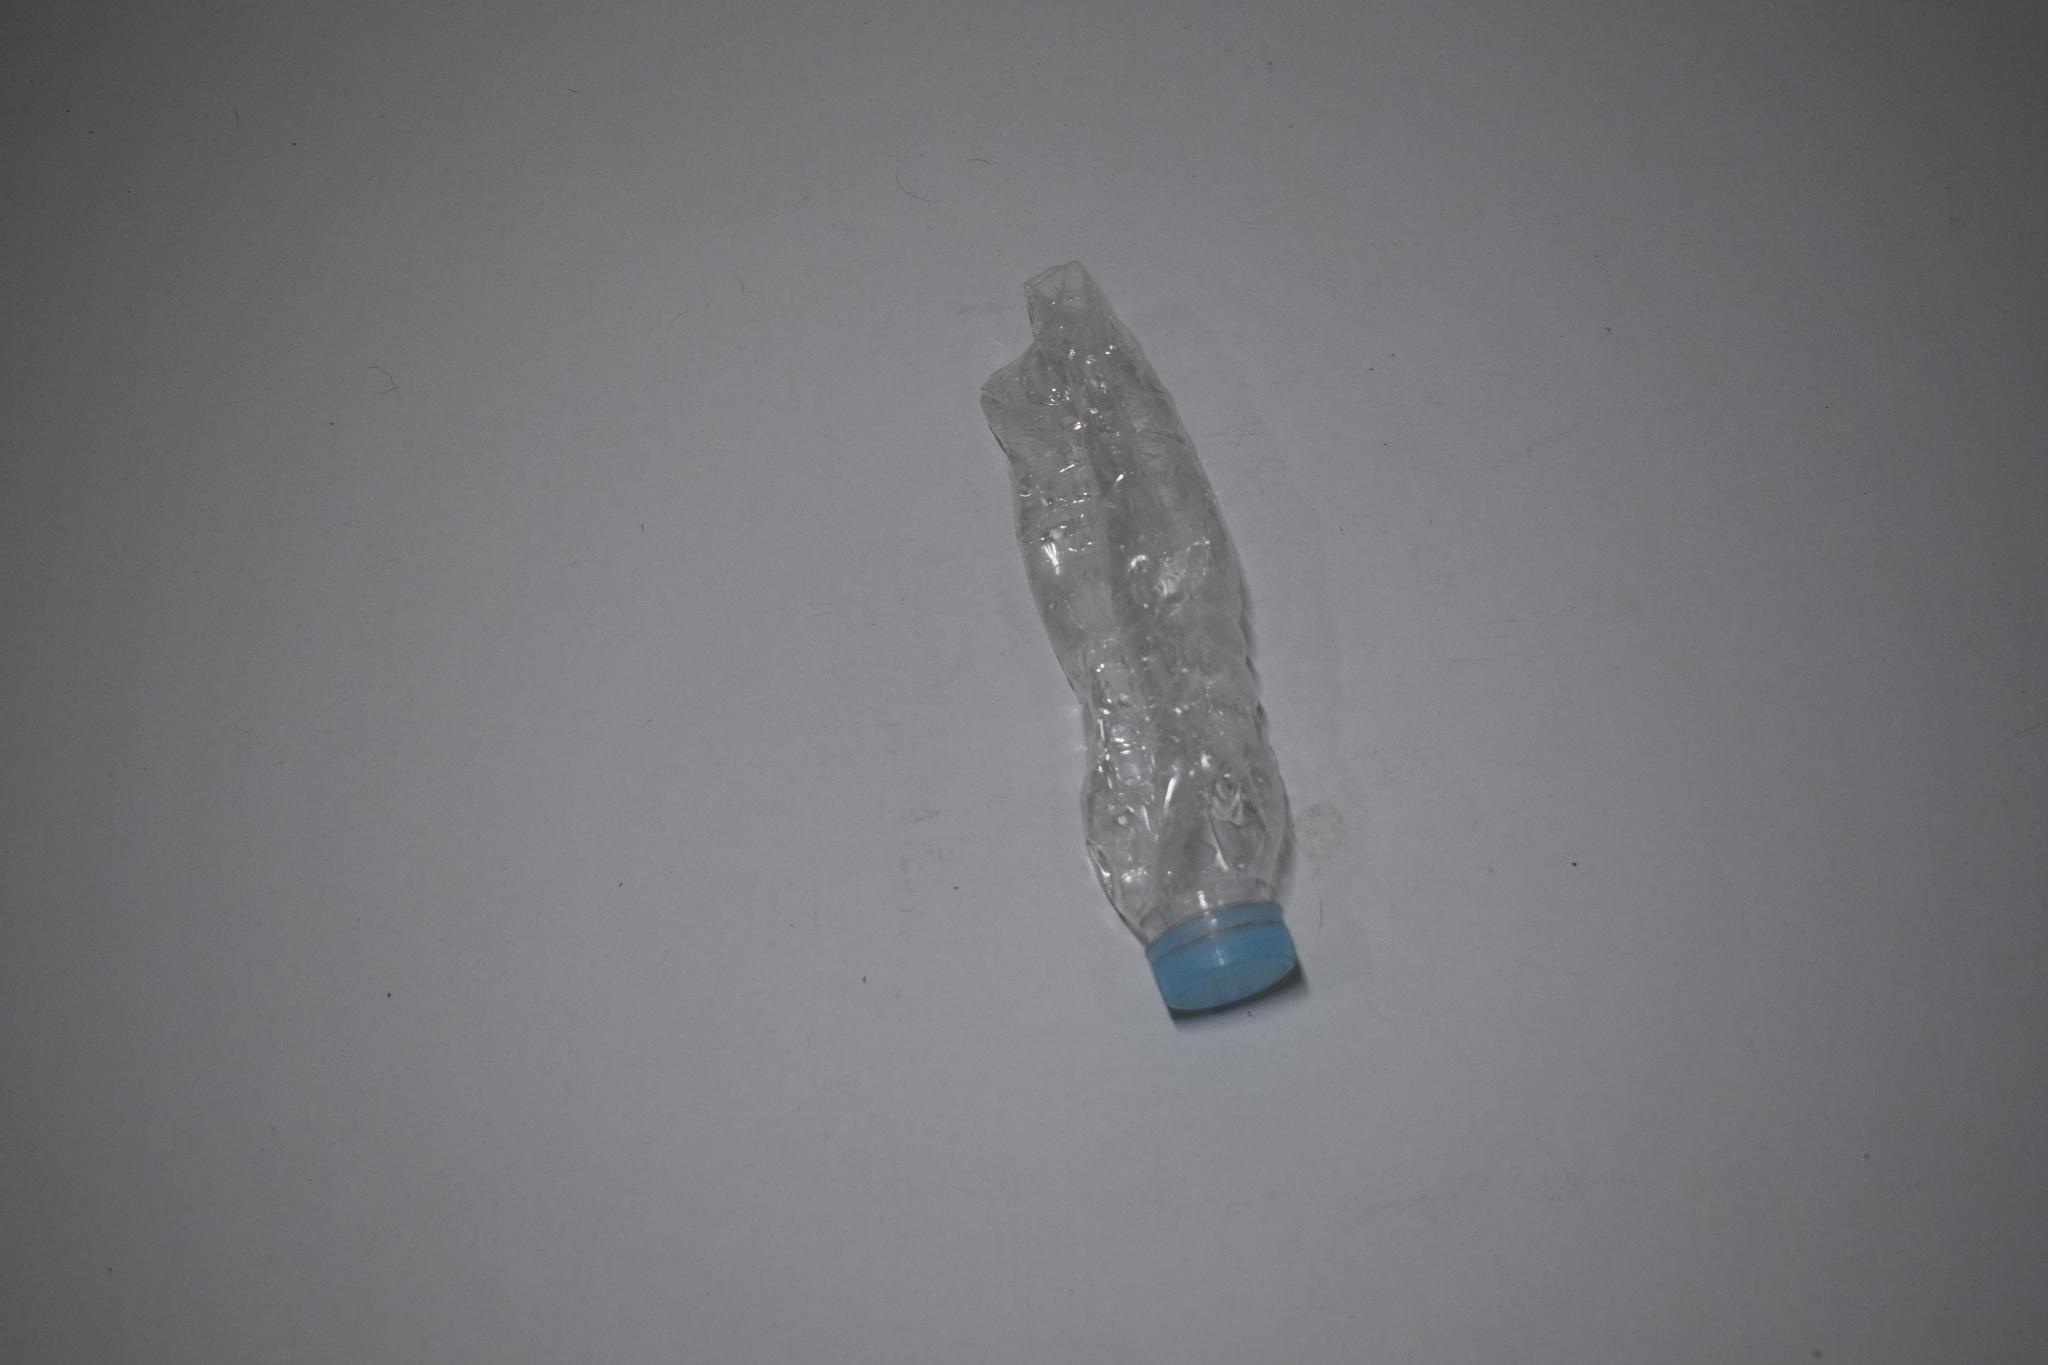bottle: (967, 225, 1349, 1035)
